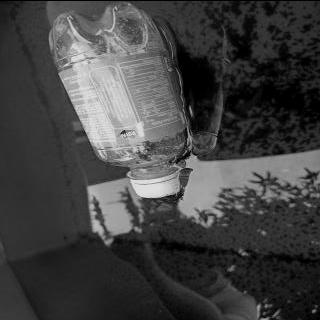bottle: (41, 0, 200, 200)
